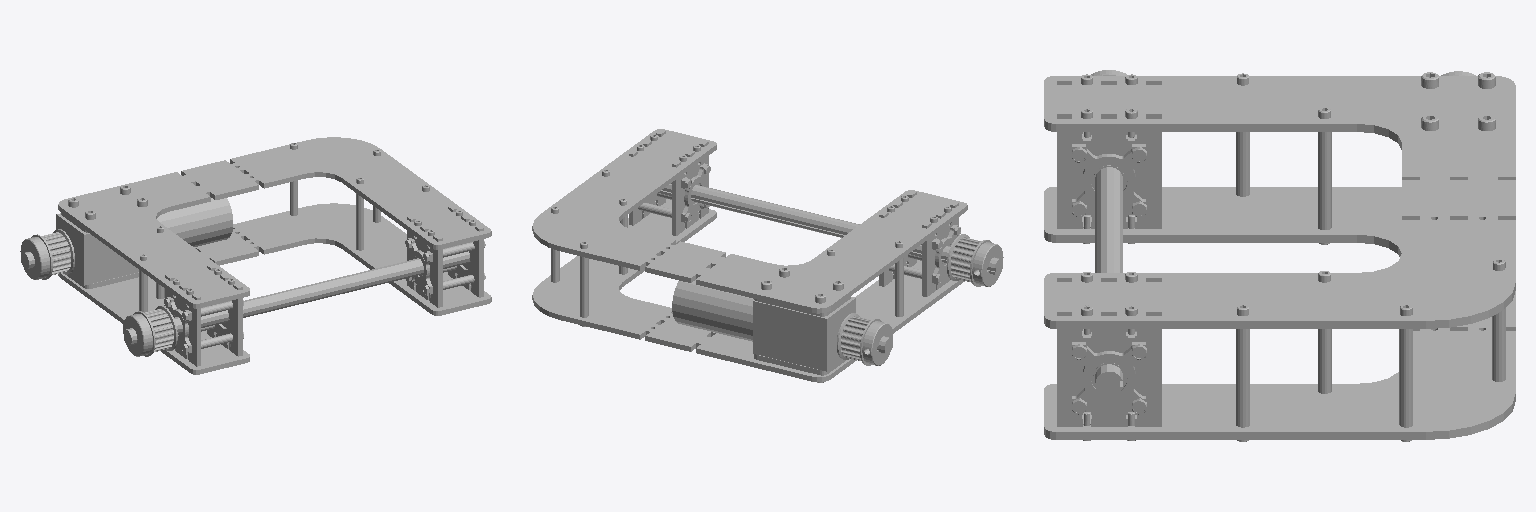
URDF robot description (ThinWheelHub):
<robot
  name="ThinWheelHub">
  <link
    name="ThinHub">
    <inertial>
      <origin
        xyz="-0.0847696700259306 0.00031282455631885 -0.0952425383965569"
        rpy="0 0 0" />
      <mass
        value="2.724043620833" />
      <inertia
        ixx="0.0126793168668858"
        ixy="2.12395970096501E-07"
        ixz="0.00391425230934786"
        iyy="0.0275207449611712"
        iyz="3.25414052810152E-07"
        izz="0.0162832740419244" />
    </inertial>
    <visual>
      <origin
        xyz="0 0 0"
        rpy="0 0 0" />
      <geometry>
        <mesh
          filename="package://ThinWheelHub/meshes/ThinHub.STL" />
      </geometry>
      <material
        name="">
        <color
          rgba="0.752941176470588 0.752941176470588 0.752941176470588 1" />
      </material>
    </visual>
    <collision>
      <origin
        xyz="0 0 0"
        rpy="0 0 0" />
      <geometry>
        <mesh
          filename="package://ThinWheelHub/meshes/ThinHub.STL" />
      </geometry>
    </collision>
  </link>
  <link
    name="Wheel">
    <inertial>
      <origin
        xyz="-0.0385289213523948 0.000315728425903221 0.0201166854458847"
        rpy="0 0 0" />
      <mass
        value="1.86318344508723" />
      <inertia
        ixx="0.0179963942930543"
        ixy="-2.15672374578627E-18"
        ixz="2.31647618750443E-34"
        iyy="0.0131272204160217"
        iyz="-1.94143329058776E-34"
        izz="0.0131272204160217" />
    </inertial>
    <visual>
      <origin
        xyz="0 0 0"
        rpy="0 0 0" />
      <geometry>
        <mesh
          filename="package://ThinWheelHub/meshes/Wheel.STL" />
      </geometry>
      <material
        name="">
        <color
          rgba="0.294117647058824 0.294117647058824 0.294117647058824 1" />
      </material>
    </visual>
    <collision>
      <origin
        xyz="0 0 0"
        rpy="0 0 0" />
      <geometry>
        <mesh
          filename="package://ThinWheelHub/meshes/Wheel.STL" />
      </geometry>
    </collision>
  </link>
  <joint
    name="Axle"
    type="fixed">
    <origin
      xyz="0 0 0"
      rpy="1.5708 0 0" />
    <parent
      link="ThinHub" />
    <child
      link="Wheel" />
    <axis
      xyz="0 0 0" />
  </joint>
</robot>

--- Facts derived from the render (not from the file) ---
Views: 3 orthographic renders of the robot side by side, from view 1: azimuth 30°, elevation 25°; view 2: azimuth 150°, elevation 25°; view 3: azimuth 270°, elevation 25°.
Robot: ThinWheelHub — 2 links, 1 joints (1 fixed); root link ThinHub; default pose: all joints at 0.
Links seen in each view (by area): view 1: ThinHub; view 2: ThinHub; view 3: ThinHub.
Link boxes in pixels (left/top/right/bottom): ThinHub: left=20, top=137, right=491, bottom=374; ThinHub: left=532, top=129, right=1003, bottom=382; ThinHub: left=1044, top=70, right=1515, bottom=441.
Size in the robot's own frame: 0.3048 by 0.211 by 0.0685 metres.
Meshes: 2 distinct files referenced, 1 mesh visuals loaded (1 binary STL); not drawn: 1 (reference not matched to a file when rendering).